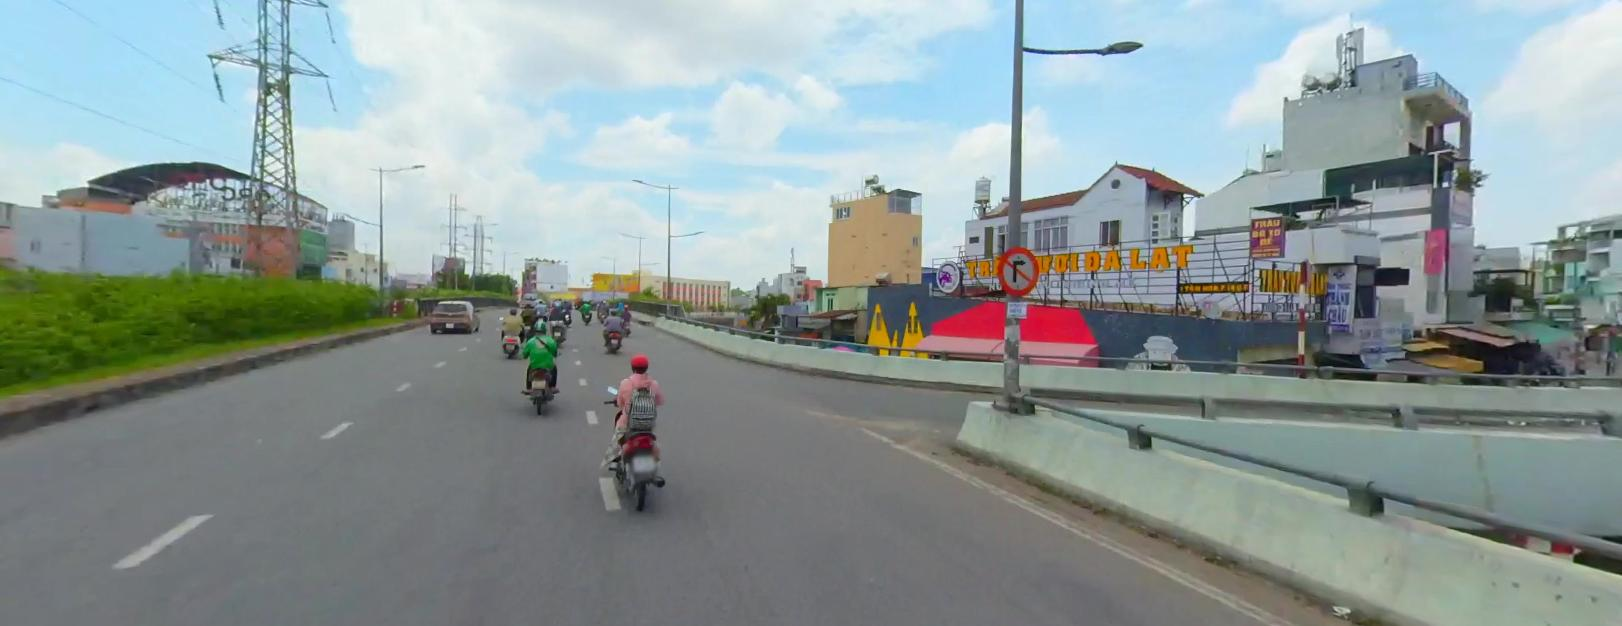Cam re: (996, 246, 1038, 294)
